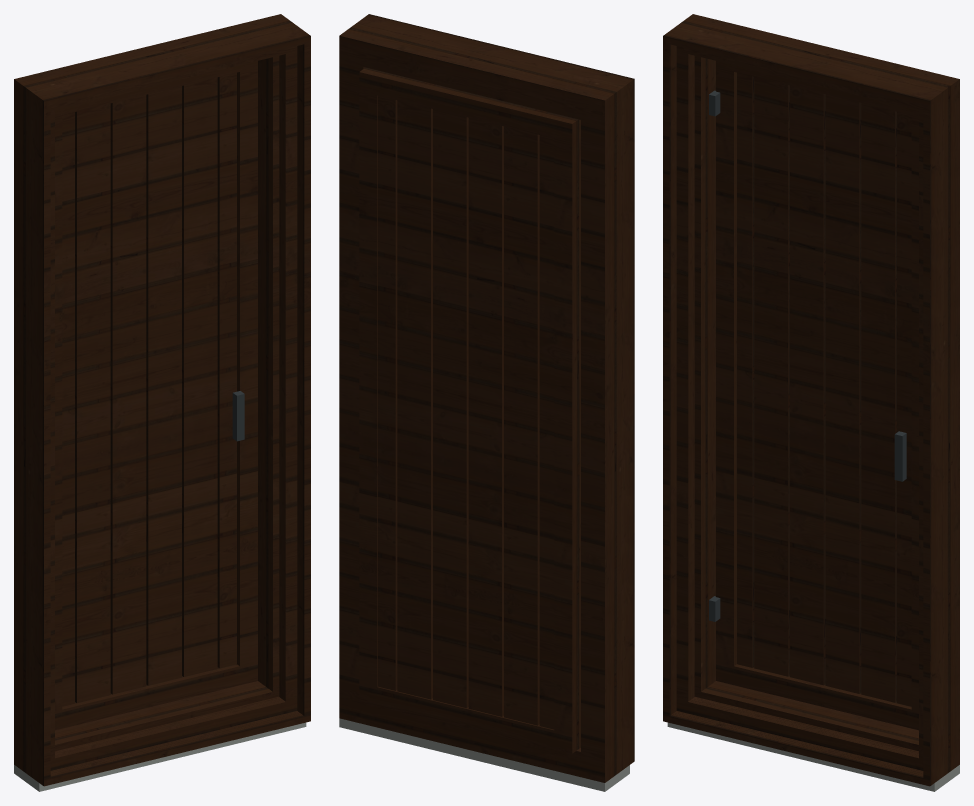
The model's file is madera_rectangle_puerta.glb.
The picture shows the model from 3 angles, left to right: view 1: azimuth 30°, elevation 25°; view 2: azimuth 150°, elevation 25°; view 3: azimuth 330°, elevation 25°; orthographic projection.
Visible parts, largest first — view 1: door_leaf_frame#0001, door_reveal#0001, door_board#0003, door_board#0002, door_board#0004, door_board#0005, door_moulding#0020, door_board#0006, door_board#0001, door_moulding#0009, door_moulding#0010, door_moulding#0001 (+18 smaller); view 2: door_reveal#0001, door_leaf_frame#0001, door_board#0002, door_board#0004, door_board#0005, door_board#0003, door_moulding#0020, door_board#0006, door_board#0001, door_threshold#0001; view 3: door_leaf_frame#0001, door_reveal#0001, door_board#0004, door_moulding#0020, door_board#0002, door_board#0003, door_board#0005, door_board#0001, door_board#0006, door_moulding#0009, door_moulding#0010, door_moulding#0001 (+18 smaller).
Boxes of the visible parts, x1,y1,x2,y2 form: door_leaf_frame#0001: [55, 61, 257, 730]; door_reveal#0001: [14, 14, 293, 773]; door_board#0003: [110, 95, 146, 694]; door_board#0002: [75, 103, 110, 702]; door_board#0004: [146, 86, 181, 685]; door_board#0005: [182, 77, 217, 676]; door_moulding#0020: [25, 23, 310, 786]; door_board#0006: [217, 72, 236, 668]; door_board#0001: [62, 112, 74, 706]; door_moulding#0009: [52, 50, 288, 761]; door_moulding#0010: [50, 47, 291, 764]; door_moulding#0001: [55, 57, 274, 746]; door_reveal#0001: [339, 26, 618, 782]; door_leaf_frame#0001: [359, 67, 580, 753]; door_board#0002: [504, 126, 539, 725]; door_board#0004: [433, 109, 468, 708]; door_board#0005: [397, 100, 432, 699]; door_board#0003: [468, 118, 503, 716]; door_moulding#0020: [352, 14, 634, 774]; door_board#0006: [378, 95, 397, 690]; door_board#0001: [539, 135, 554, 729]; door_threshold#0001: [339, 718, 629, 791]; door_leaf_frame#0001: [716, 61, 918, 730]; door_reveal#0001: [680, 14, 959, 773]; door_board#0004: [825, 94, 861, 693]; door_moulding#0020: [663, 24, 948, 786]; door_board#0002: [754, 77, 789, 676]; door_board#0003: [790, 85, 825, 685]; door_board#0005: [861, 103, 896, 702]; door_board#0001: [737, 72, 754, 667]; door_board#0006: [897, 111, 911, 706]; door_moulding#0009: [685, 50, 921, 761]; door_moulding#0010: [682, 47, 923, 764]; door_moulding#0001: [699, 57, 918, 746].
Size of the model in its own units: 1.1 by 2.73 by 0.258.
Materials: 3 (1 with a texture image).
